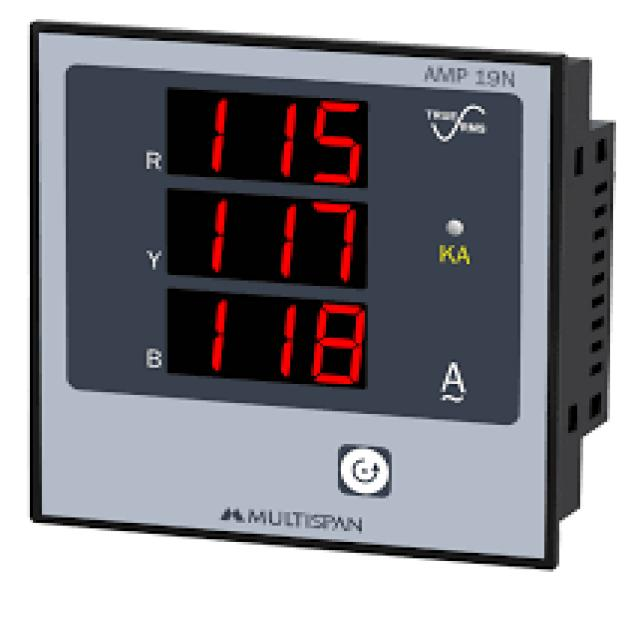1: (174, 90, 246, 177), (186, 202, 251, 277), (267, 95, 310, 183), (274, 199, 308, 279), (204, 298, 239, 374), (272, 304, 300, 380)
5: (316, 96, 374, 185)
7: (316, 198, 371, 288)
8: (310, 298, 372, 388)
screen: (163, 85, 377, 192), (163, 188, 375, 291), (165, 289, 374, 393)
